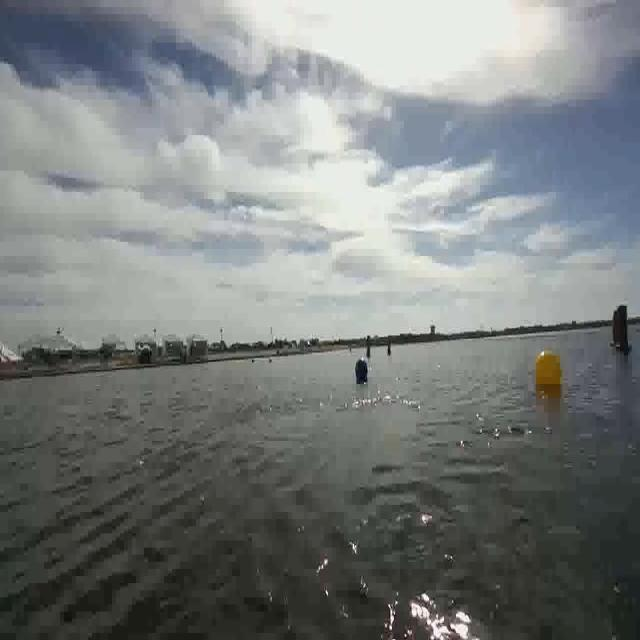blue-buoy: (354, 356, 369, 382)
red-column-buoy: (611, 304, 633, 356)
yellow-buoy: (533, 350, 563, 390)
